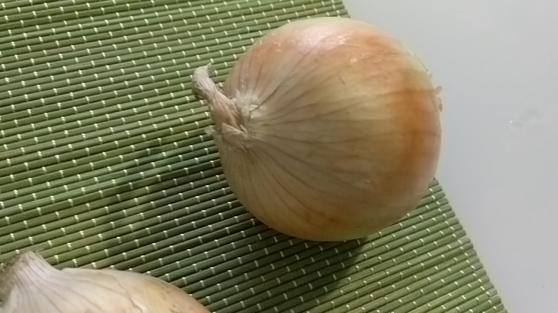onion: (195, 17, 441, 243)
